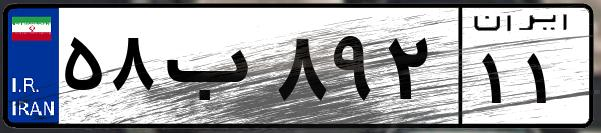1: (475, 38, 525, 113), (525, 38, 570, 115)
2: (385, 28, 445, 110)
5: (57, 26, 110, 100)
8: (270, 28, 330, 110), (110, 28, 158, 98)
9: (330, 28, 385, 110)
ب: (158, 20, 270, 120)
